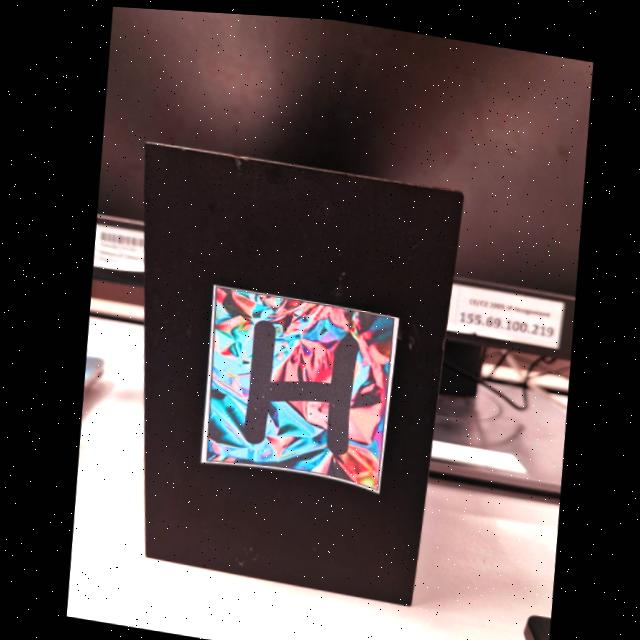H: (241, 318, 353, 450)
